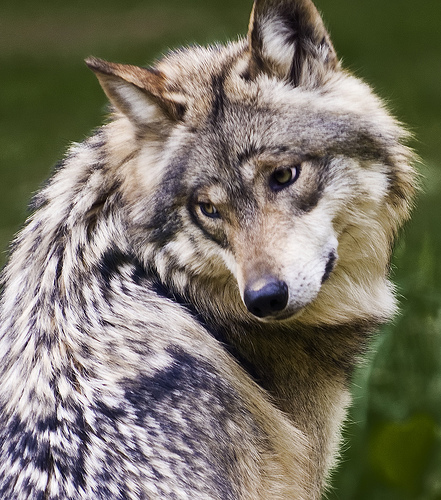Lobo: (18, 8, 422, 483)
